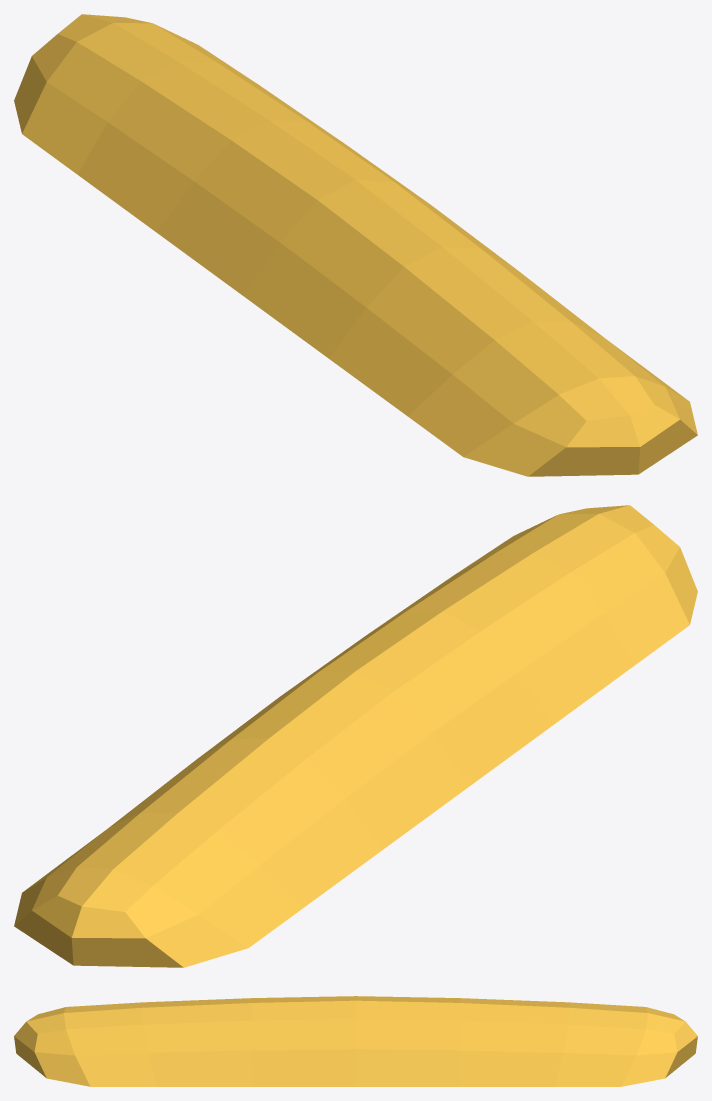
Rendered from hay_003.glb.
3 views of the same model, one above another, from view 1: azimuth 30°, elevation 25°; view 2: azimuth 150°, elevation 25°; view 3: azimuth 270°, elevation 25° (orthographic). The views are drawn at different scales.
Parts seen in each view (by area): view 1: hay_003; view 2: hay_003; view 3: hay_003.
Part boxes in pixels (box(x1,y1,x2,y2)): hay_003: box(14, 14, 697, 476); hay_003: box(14, 505, 697, 967); hay_003: box(14, 996, 697, 1086).
Size of the model in its own units: 8.64 by 3.2 by 37.52.
1 material, 1 textured.
